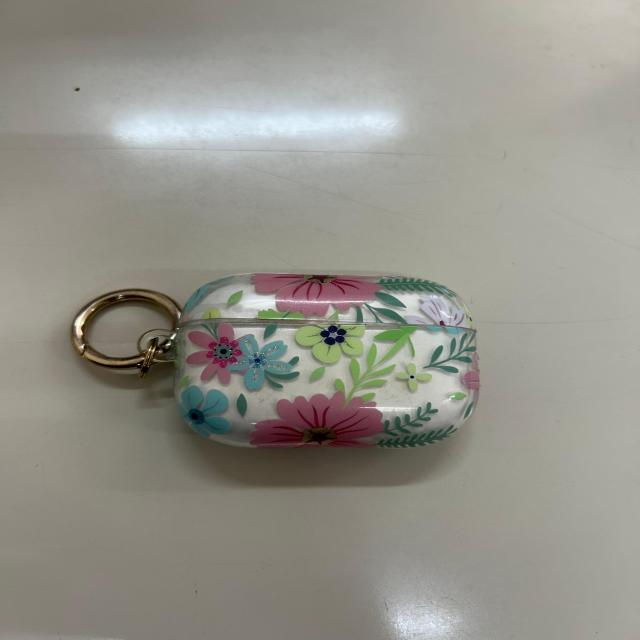inorganic: (72, 272, 479, 448)
